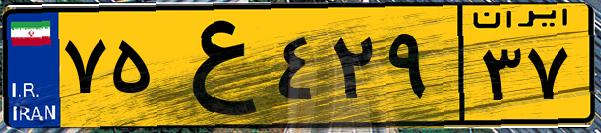2: (330, 28, 385, 110)
3: (475, 38, 525, 113)
4: (270, 28, 330, 110)
5: (110, 28, 158, 98)
7: (57, 26, 110, 100), (525, 38, 570, 115)
9: (385, 28, 445, 110)
ع: (158, 12, 270, 120)
